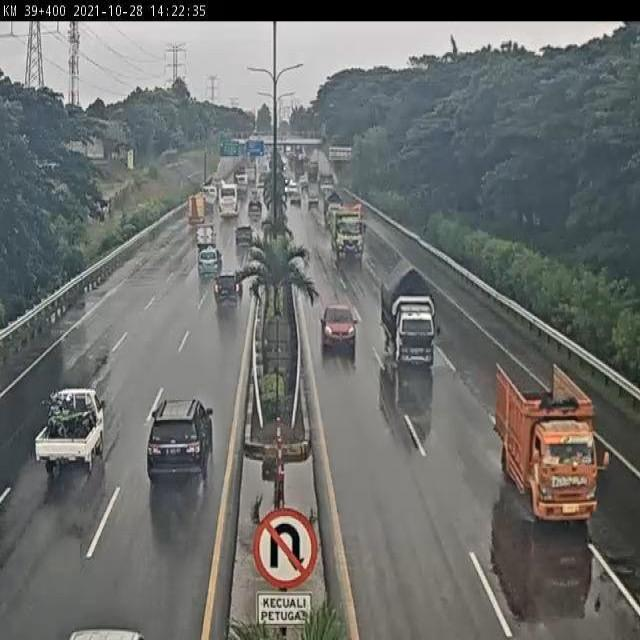car: (33, 389, 105, 479), (195, 245, 222, 279)
truck-l-: (331, 205, 370, 268)
truck-s-: (493, 360, 601, 524), (379, 259, 436, 369), (188, 195, 208, 224)
